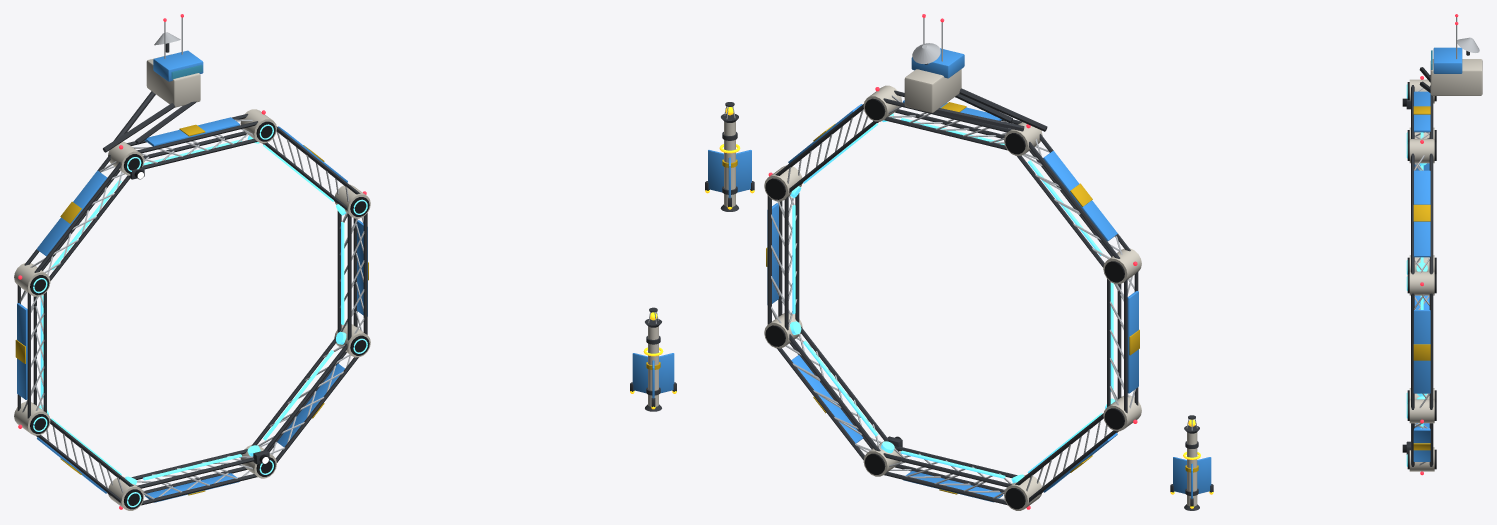
The model's file is arena.glb.
3 renders of one model, left to right at view 1: azimuth 30°, elevation 25°; view 2: azimuth 150°, elevation 25°; view 3: azimuth 270°, elevation 25°, orthographic. The views are drawn at different scales.
Parts seen in each view (by area): view 1: GateTruss, GatePods, GatePlates, GateSpine, GateGlow, BuoyBody; view 2: GateTruss, GatePods, GatePlates, GateSpine, GateGlow, BuoyBody; view 3: GatePlates, GatePods, GateTruss, GateSpine, BuoyBody, GateGlow.
Boxes of the visible parts, x1,y1,x2,y2 form: GateTruss: (17, 113, 367, 505); GatePods: (14, 109, 370, 510); GatePlates: (15, 117, 368, 502); GateSpine: (103, 14, 203, 152); GateGlow: (33, 124, 367, 507); BuoyBody: (630, 307, 676, 411); GateTruss: (767, 90, 1138, 505); GatePods: (764, 85, 1141, 510); GatePlates: (766, 100, 1139, 502); GateSpine: (904, 14, 1047, 131); GateGlow: (790, 113, 1115, 483); BuoyBody: (705, 102, 754, 211); GatePlates: (1413, 91, 1430, 461); GatePods: (1402, 76, 1436, 475); GateTruss: (1411, 85, 1433, 466); GateSpine: (1419, 14, 1482, 95); BuoyBody: (1170, 415, 1213, 510); GateGlow: (1402, 84, 1427, 466).
Size of the model in its own units: 98.38 by 81.53 by 54.26.
